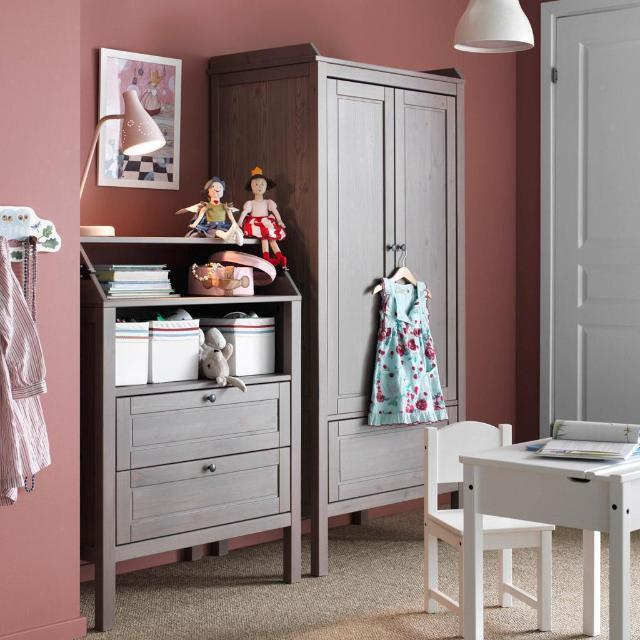chair: (425, 421, 511, 632), (481, 515, 555, 631)
dresser: (209, 45, 465, 575), (81, 238, 301, 631)
lamp: (81, 89, 166, 196), (80, 226, 115, 236)
light: (454, 0, 534, 52)
table: (460, 444, 640, 639)
wall-art: (98, 48, 181, 189)
